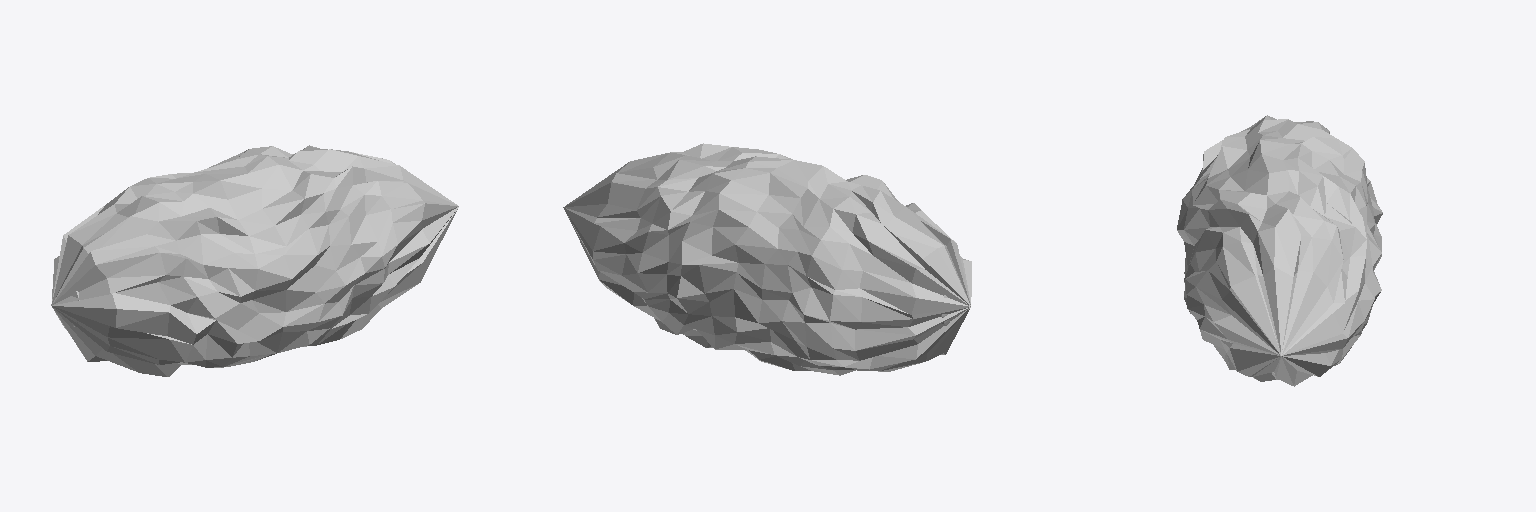
File: muzzleFlash.obj
3 renders of one model, left to right at view 1: azimuth 30°, elevation 25°; view 2: azimuth 150°, elevation 25°; view 3: azimuth 270°, elevation 25°, orthographic.
Parts seen in each view (by area): view 1: Cylinder_Cylinder.003; view 2: Cylinder_Cylinder.003; view 3: Cylinder_Cylinder.003.
Part boxes in pixels (bbox=[...]): Cylinder_Cylinder.003: bbox=[51, 145, 458, 376]; Cylinder_Cylinder.003: bbox=[563, 143, 971, 375]; Cylinder_Cylinder.003: bbox=[1177, 115, 1382, 386].
Size of the model in its own units: 3.58 by 1.58 by 1.57.